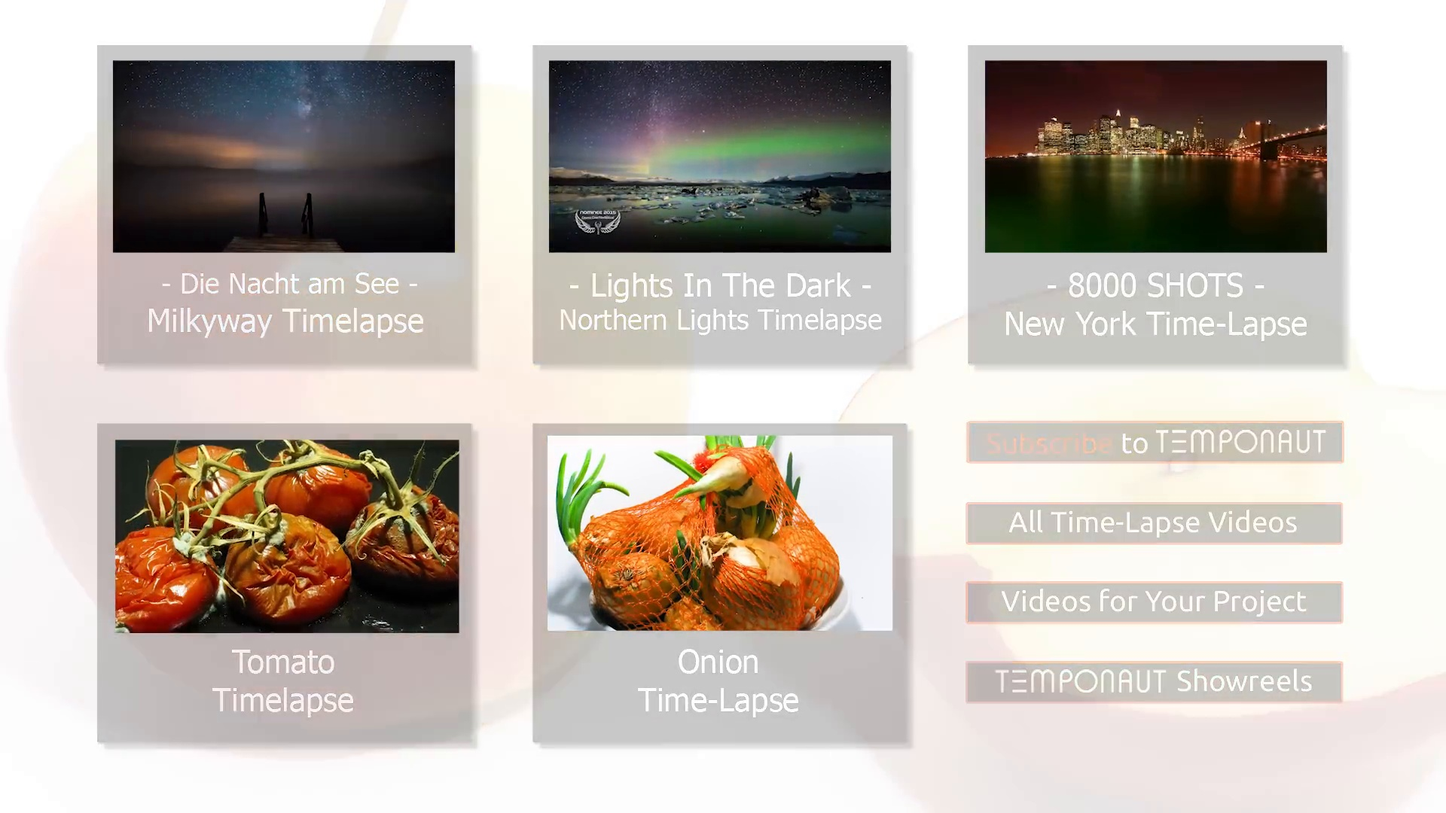apple_rotten: (1, 53, 689, 747)
